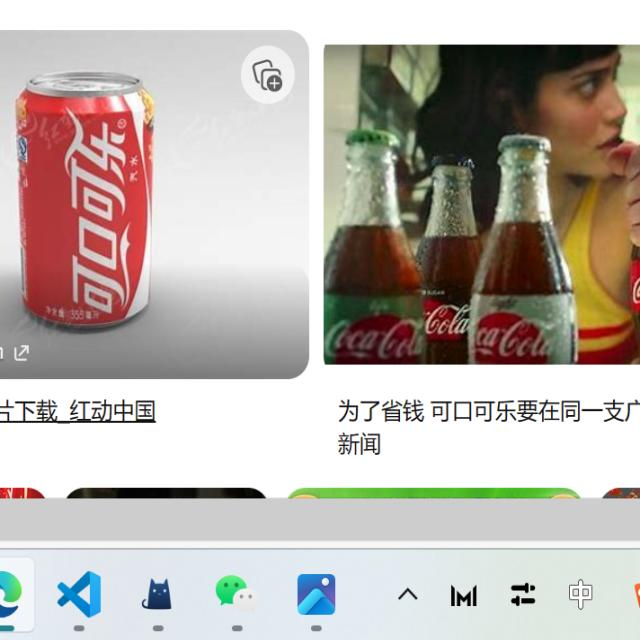coca_cola: (14, 74, 159, 330)
